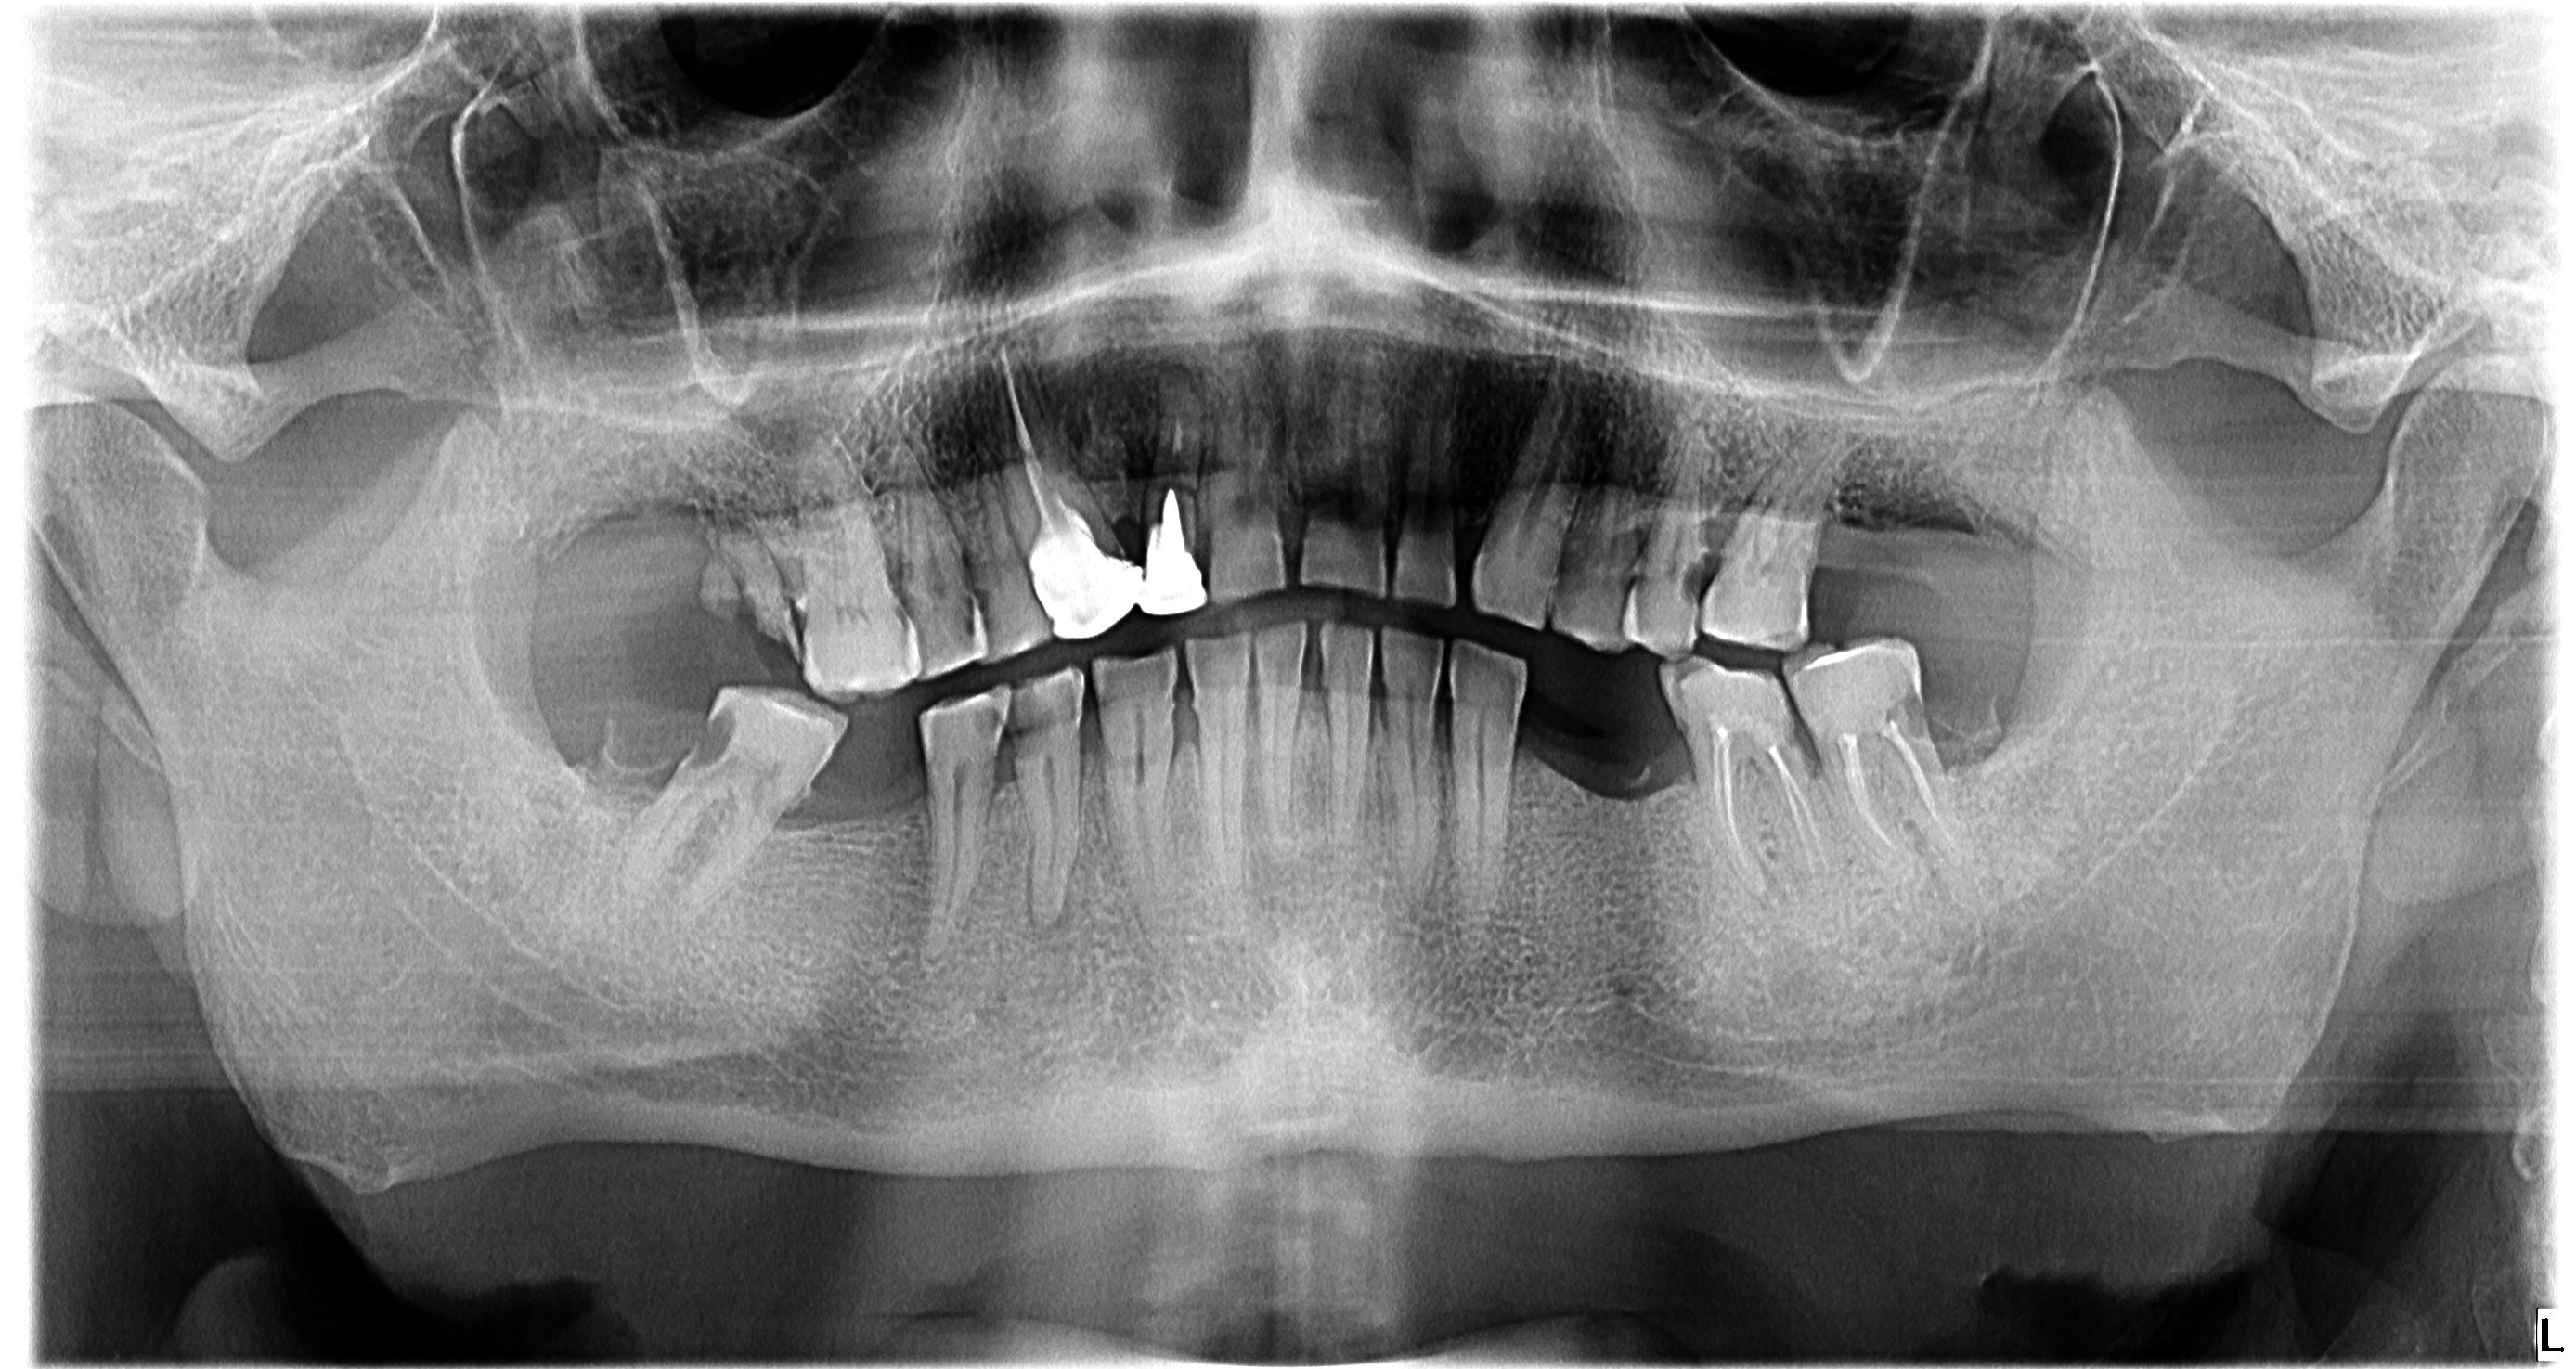API: (1010, 875, 1084, 955), (1743, 855, 1797, 933)
CAR: (658, 686, 767, 792), (944, 579, 1002, 649), (1668, 541, 1721, 613), (959, 693, 1019, 753), (877, 587, 935, 635)
END: (1814, 729, 1981, 879), (1688, 730, 1823, 908), (983, 329, 1089, 523)
OBT: (1782, 633, 1939, 754), (1010, 501, 1141, 640), (1663, 652, 1796, 770)
PRR: (1118, 480, 1211, 628)
ROT: (700, 511, 816, 659), (545, 712, 676, 804), (1927, 679, 2022, 771), (678, 545, 753, 635)
